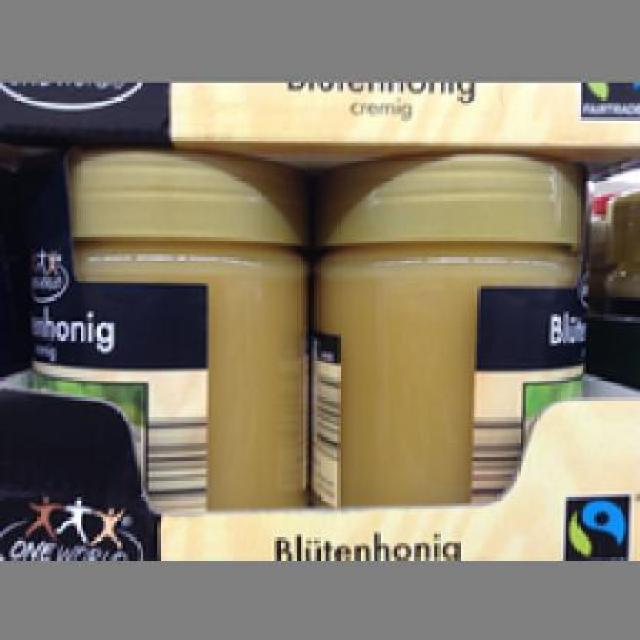Honey: (17, 152, 306, 534), (317, 157, 597, 506)
